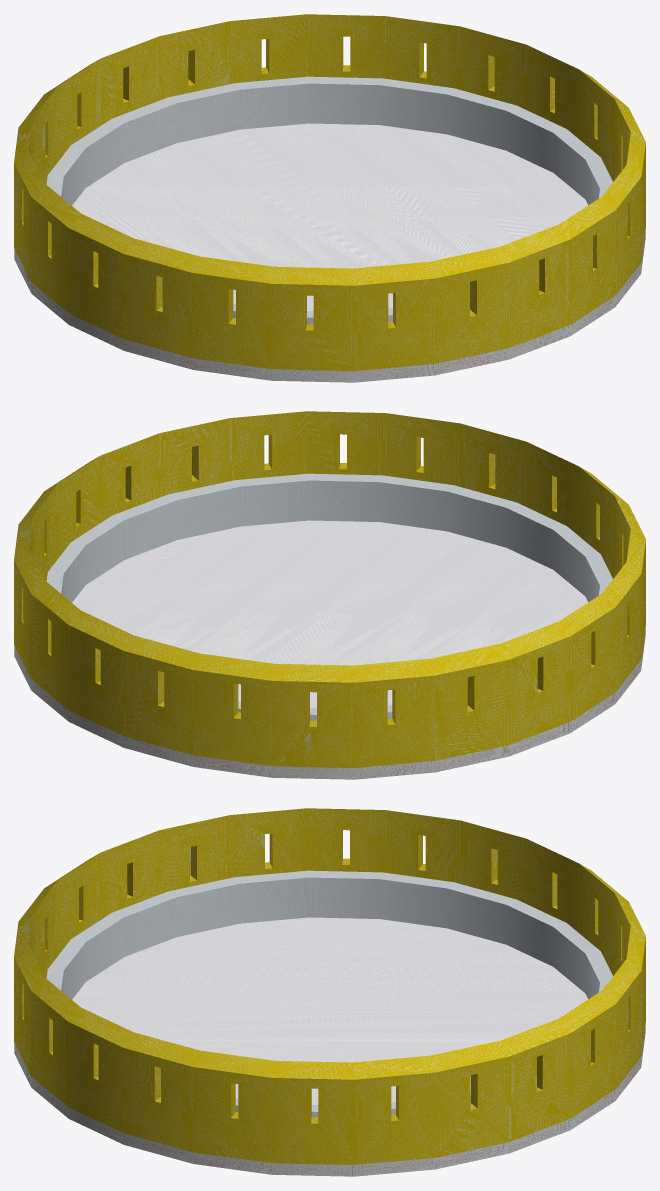
Rendered from current.glb.
3 renders of one model, top to bottom at view 1: azimuth 30°, elevation 25°; view 2: azimuth 150°, elevation 25°; view 3: azimuth 270°, elevation 25°, orthographic.
Visible parts, largest first — view 1: SketchUp, SketchUp.031, SketchUp.014, SketchUp.027, SketchUp.013; view 2: SketchUp, SketchUp.031, SketchUp.014, SketchUp.027, SketchUp.013; view 3: SketchUp, SketchUp.031, SketchUp.014, SketchUp.027, SketchUp.013.
Part boxes in pixels (x1,y1,x2,y2): SketchUp: (14,14,645,370); SketchUp.031: (72,123,588,310); SketchUp.014: (61,83,599,205); SketchUp.027: (14,231,645,382); SketchUp.013: (46,76,612,324); SketchUp: (14,411,645,767); SketchUp.031: (72,520,588,707); SketchUp.014: (61,480,599,602); SketchUp.027: (14,628,645,779); SketchUp.013: (46,473,612,720); SketchUp: (14,808,645,1164); SketchUp.031: (72,917,588,1104); SketchUp.014: (61,877,599,999); SketchUp.027: (14,1025,645,1176); SketchUp.013: (46,870,612,1117).
Size of the model in its own units: 44.48 by 8.38 by 44.48.
Materials: 6 (3 with a texture image).
